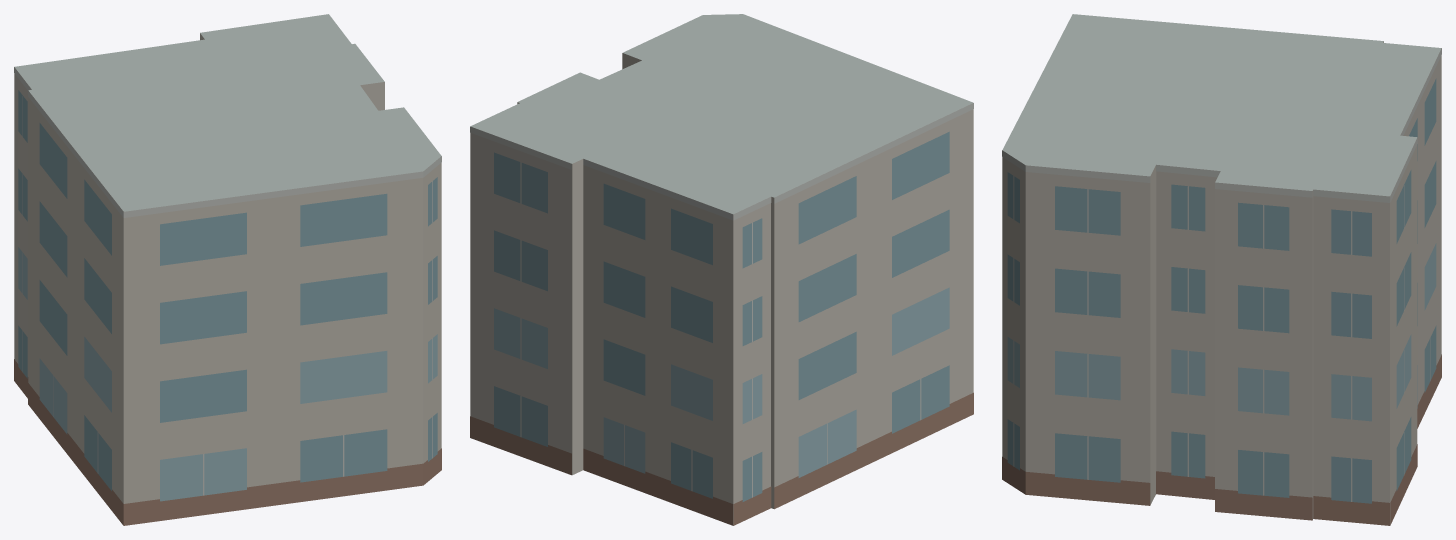
The model's file is survey-upis-32665005.glb.
3 renders of one model, left to right at view 1: azimuth 30°, elevation 25°; view 2: azimuth 150°, elevation 25°; view 3: azimuth 270°, elevation 25°, orthographic. The views are drawn at different scales.
Visible parts, largest first — view 1: survey-upis-32665005.tmp; view 2: survey-upis-32665005.tmp; view 3: survey-upis-32665005.tmp.
Part boxes in pixels (box(x1,y1,x2,y2)): survey-upis-32665005.tmp: box(14, 14, 441, 525); survey-upis-32665005.tmp: box(470, 14, 973, 525); survey-upis-32665005.tmp: box(1002, 14, 1441, 525).
Size of the model in its own units: 14.44 by 12.15 by 14.7.
